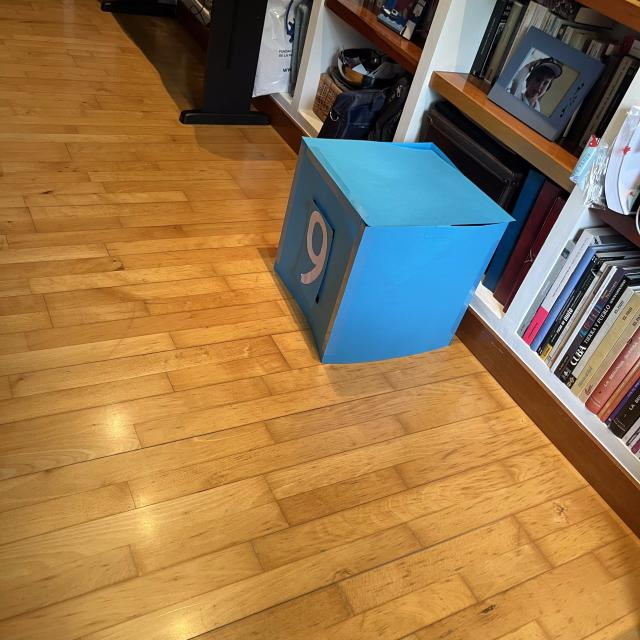box: (271, 133, 515, 365)
